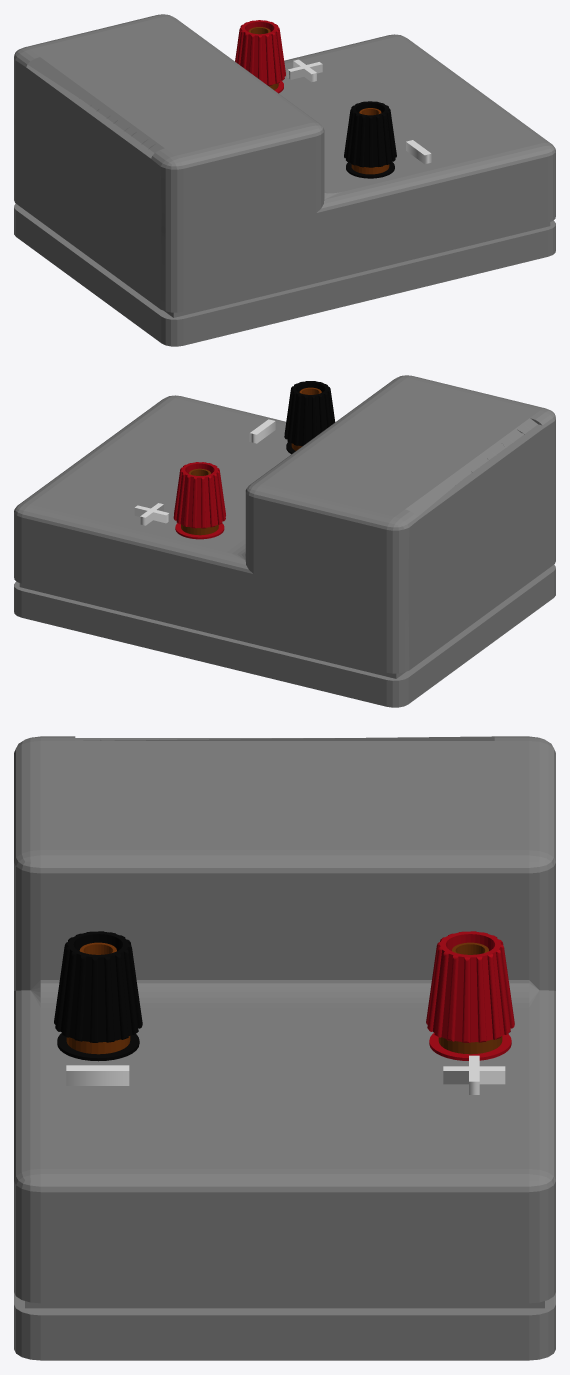
Rendered from источник_ток.fbx.
The picture shows the model from 3 angles, top to bottom: view 1: azimuth 30°, elevation 25°; view 2: azimuth 150°, elevation 25°; view 3: azimuth 270°, elevation 25°; orthographic projection. The views are drawn at different scales.
Parts seen in each view (by area): view 1: Cube, Клемма.001, Клемма, Text.002; view 2: Cube, Клемма, Клемма.001, Text.002; view 3: Cube, Клемма.001, Клемма, Text.002, Text.001.
Part boxes in pixels (left/top/right/bottom): Cube: left=14, top=14, right=555, bottom=346; Клемма.001: left=344, top=101, right=396, bottom=178; Клемма: left=235, top=20, right=285, bottom=93; Text.002: left=287, top=59, right=322, bottom=82; Cube: left=14, top=375, right=555, bottom=707; Клемма: left=173, top=462, right=225, bottom=539; Клемма.001: left=284, top=381, right=335, bottom=454; Text.002: left=134, top=503, right=169, bottom=525; Cube: left=14, top=736, right=555, bottom=1360; Клемма.001: left=54, top=931, right=142, bottom=1061; Клемма: left=426, top=931, right=514, bottom=1060; Text.002: left=443, top=1055, right=505, bottom=1094; Text.001: left=66, top=1065, right=129, bottom=1085.
Size of the model in its own units: 200 by 89.5 by 142.
